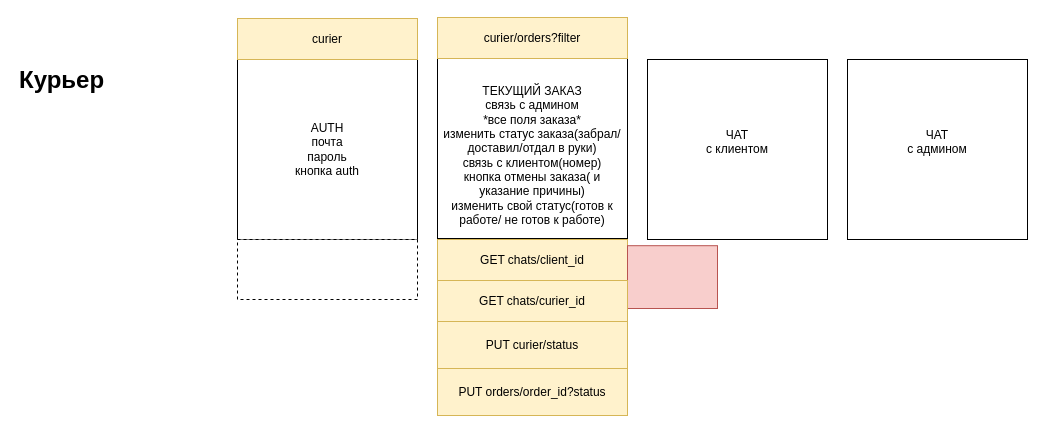
This 1045x433 diagram has some shape labels left out. Each missing label, with the centre of its shape:
"пока не делаем" belongs at point (672, 276).
"работает через тот же сервер аунтефикации" belongs at point (327, 269).
